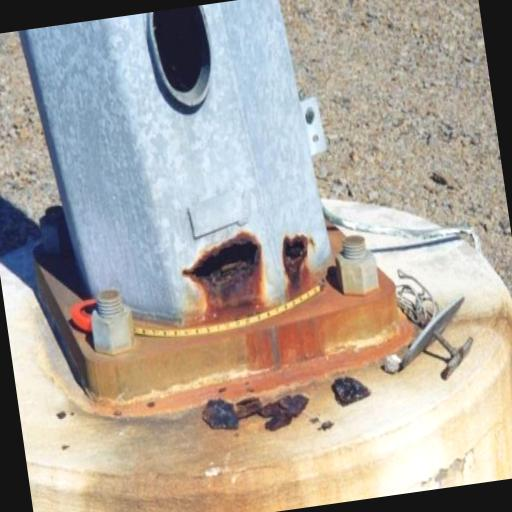segmentation: (291, 0, 512, 386), (40, 267, 215, 417), (247, 274, 416, 379), (0, 36, 54, 218), (183, 232, 267, 323), (154, 7, 208, 91), (283, 231, 317, 297), (333, 376, 369, 405)
